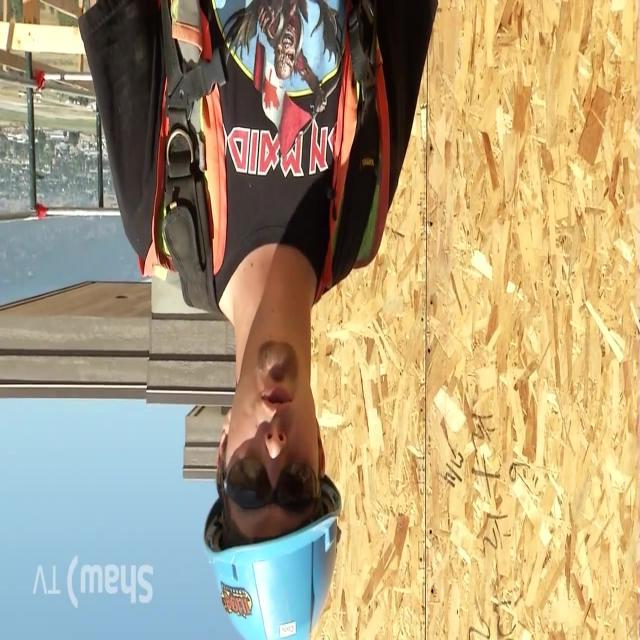safetyhelmet: (186, 438, 352, 638)
